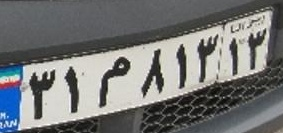character: (93, 52, 134, 109), (27, 65, 57, 122), (139, 44, 167, 98), (194, 29, 220, 83), (60, 63, 85, 117), (245, 25, 268, 71), (173, 40, 190, 90), (228, 33, 242, 78)
